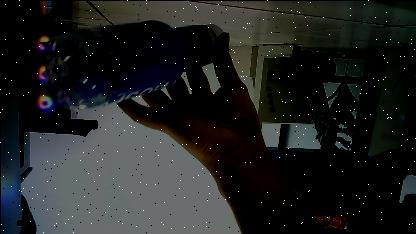Plastic Bottle: (35, 15, 260, 122)
